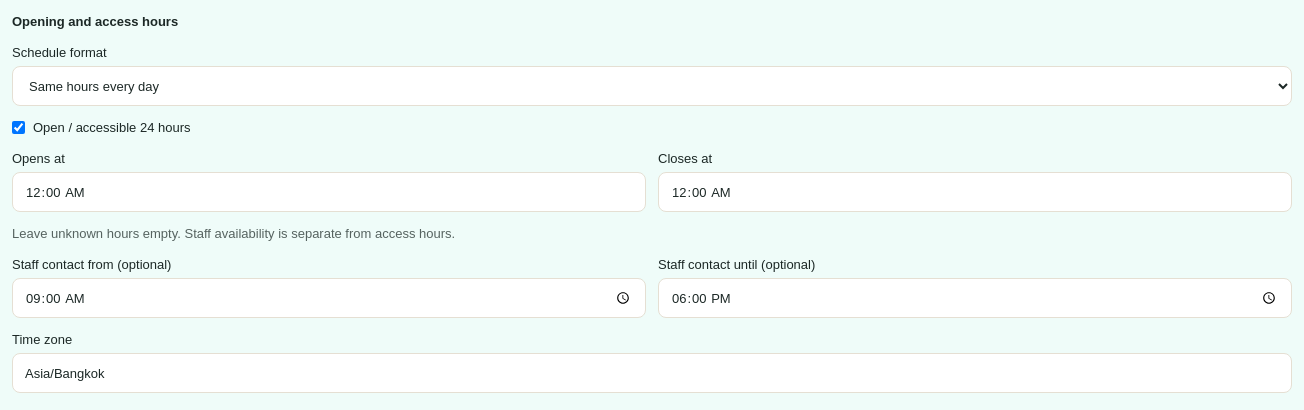
Test case: hours editor › offers ordinary time controls and separate staff hours
This screenshot has width=1304, height=410.
Expected: the time field labelled "Opens at" is disabled, [12, 172, 646, 212]
Expected: the time field labelled "Staff contact from (optional)" holds "09:00", [12, 278, 646, 318]
Click the checkbox labelled "Open / accessible 24 hours" at (18, 128), box [12, 121, 25, 134]
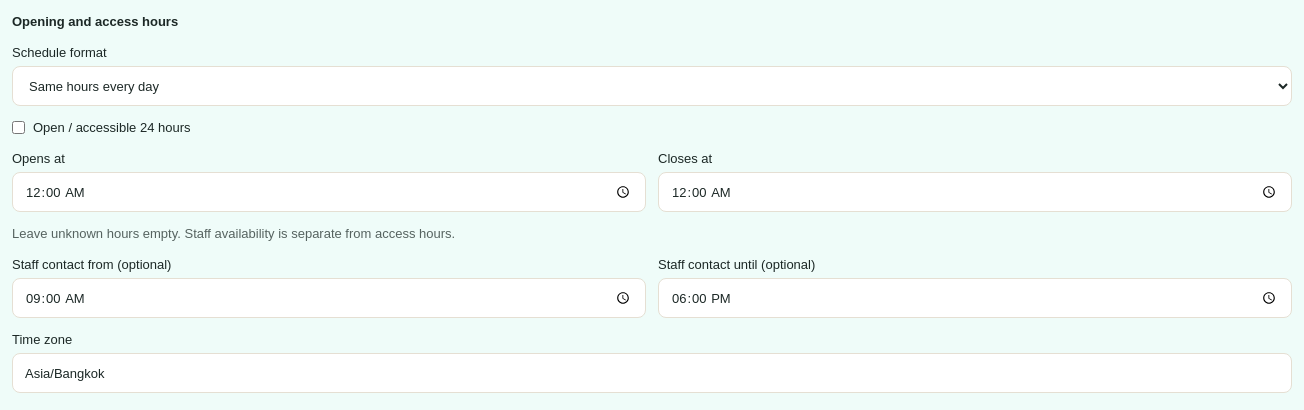
Result: the time field labelled "Opens at" is enabled at [12, 172, 646, 212]
